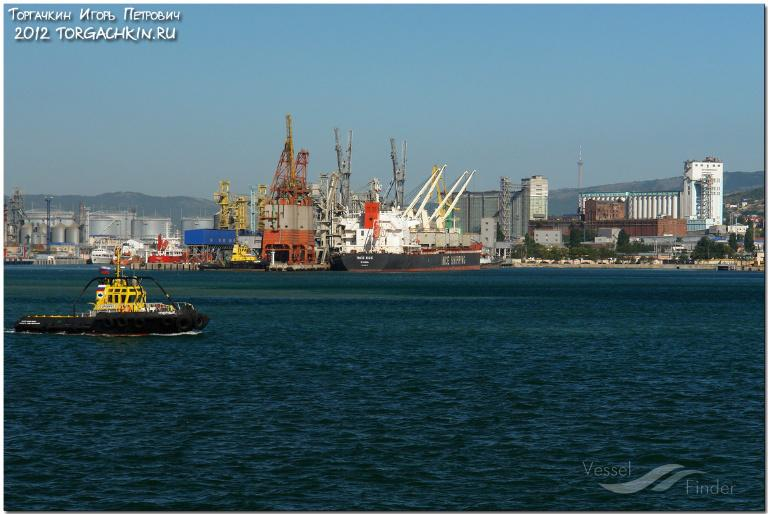OCR: (436, 253, 468, 267)
